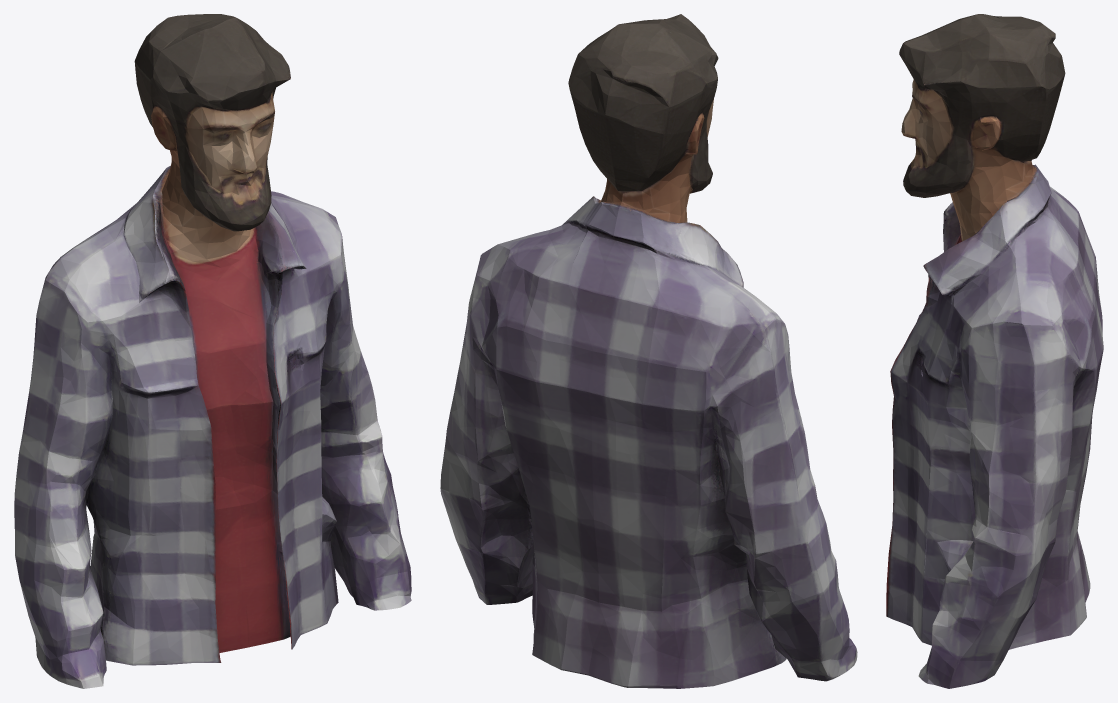
3 views of the same model, side by side, from view 1: azimuth 30°, elevation 25°; view 2: azimuth 150°, elevation 25°; view 3: azimuth 270°, elevation 25° (orthographic). The views are drawn at different scales.
Visible parts, largest first — view 1: geometry_0; view 2: geometry_0; view 3: geometry_0.
Boxes of the visible parts, box(x1,y1,x2,y2) form: geometry_0: box(14, 14, 411, 688); geometry_0: box(440, 14, 857, 688); geometry_0: box(886, 14, 1103, 688).
Size of the model in its own units: 0.5367 by 0.8284 by 0.2796.
1 material, 1 textured.
